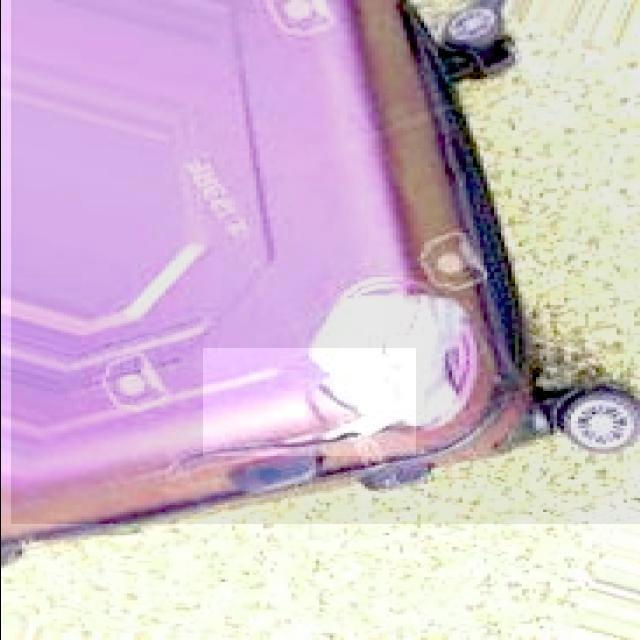Damage-bag: (180, 290, 479, 475)
